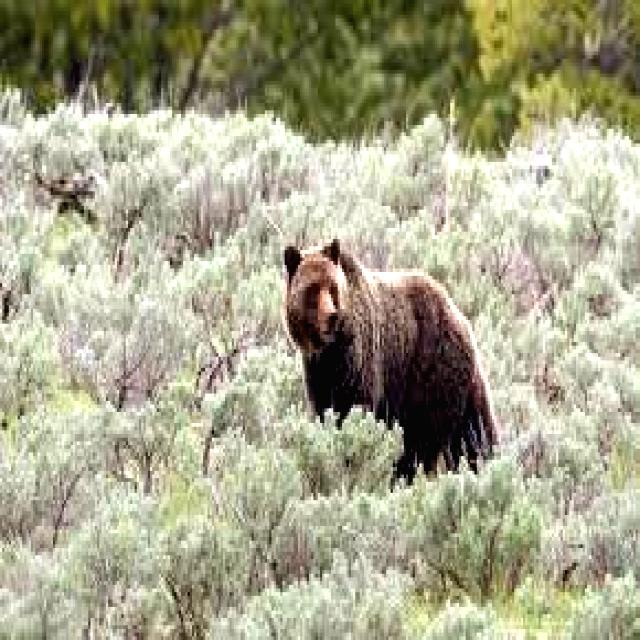bear: (289, 233, 507, 515)
